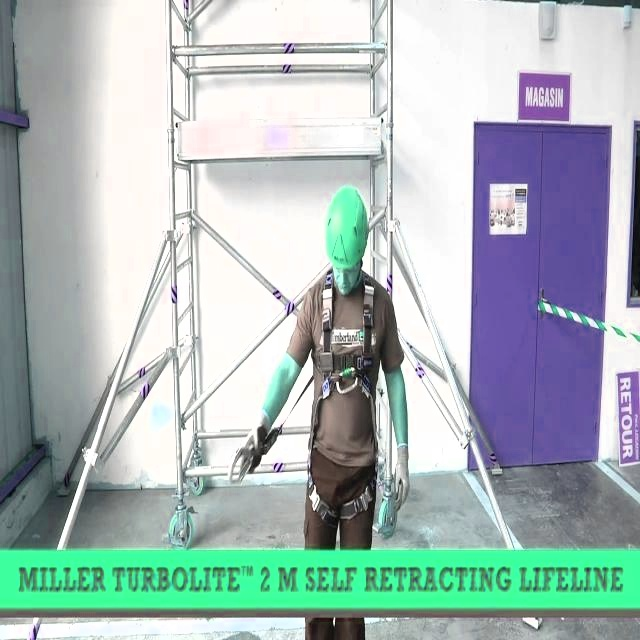safety belt: (292, 263, 405, 520)
